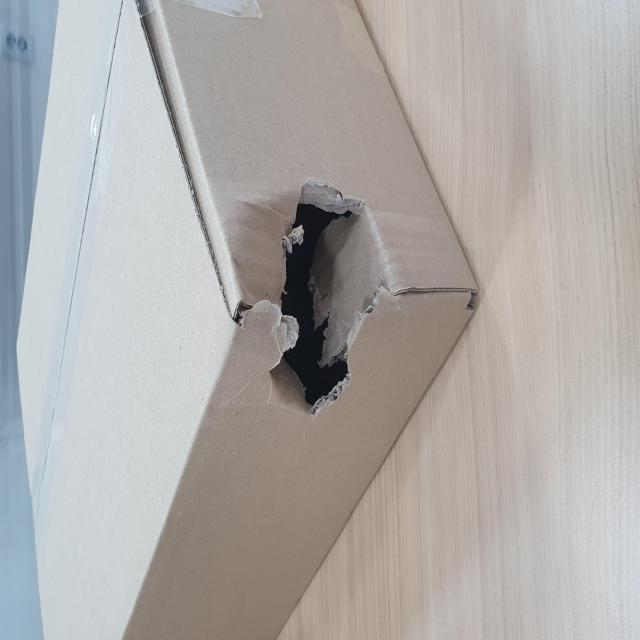damaged: (130, 450, 262, 640)
